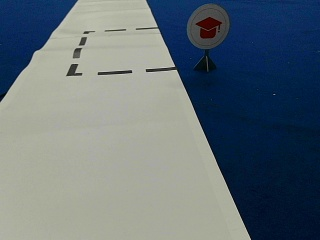school: (187, 4, 230, 48)
